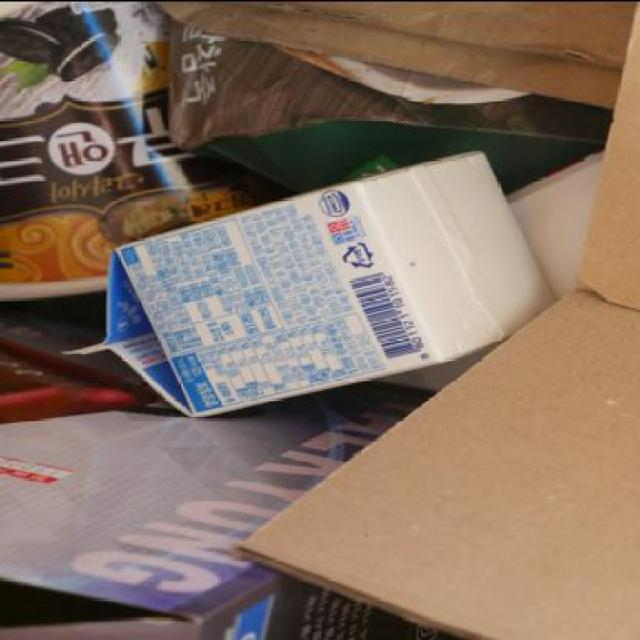non_white_jug: (62, 146, 564, 422)
